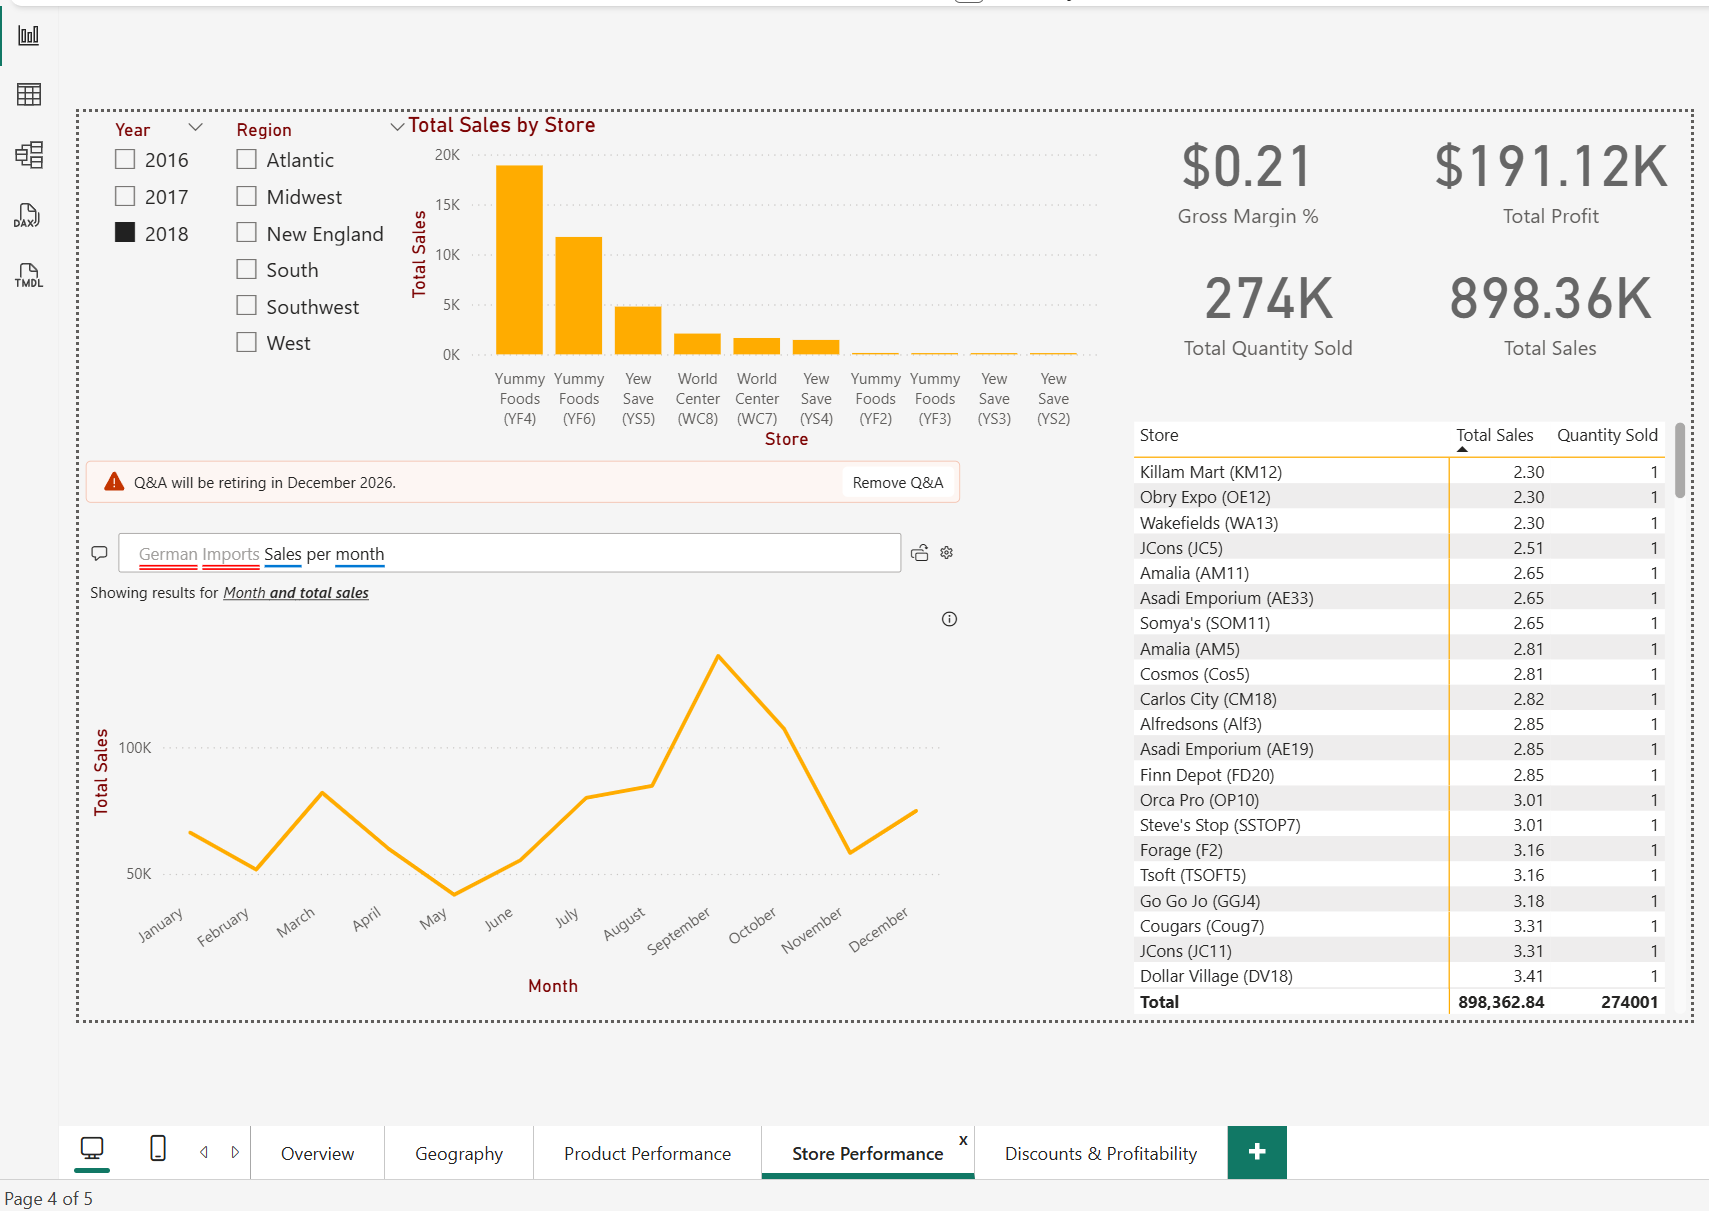

Layout of this report page (visuals, bound fields, positions):
{"tool":"powerbi","page":{"name":"Store Performance","canvas":[1280,720],"ordinal":3},"visuals":[{"type":"slicer","fields":{"Values":["Transactions.Date.Variation.Date Hierarchy.Year"]},"box":[16,0,96,208],"z":0},{"type":"slicer","fields":{"Values":["Region.Region"]},"box":[112,0,160,240],"z":1000},{"type":"card","fields":{"Values":["Transactions.Total Sales"]},"box":[1072,96,192,112],"z":2000},{"type":"card","fields":{"Values":["Transactions.Total Profit"]},"box":[1056,0,224,96],"z":3000},{"type":"card","fields":{"Values":["Transactions.Total Quantity Sold"]},"box":[848,96,192,112],"z":4000},{"type":"card","fields":{"Values":["Transactions.Gross Margin %"]},"box":[848,0,160,96],"z":5000},{"type":"clusteredColumnChart","fields":{"Category":["Transactions.Store"],"Y":["Transactions.Total Sales"]},"box":[256,0,560,272],"z":6000},{"type":"pivotTable","fields":{"Rows":["Transactions.Store"],"Values":["Transactions.Total Sales","Sum(Transactions.Quantity Sold)"]},"box":[832,240,448,480],"z":8000},{"type":"qnaVisual","box":[0,272,704,448],"z":9002}]}

Visuals, with their boxes on the page's 1280x720 design canvas (x1, y1, x2, y2). These are canvas units, not pixel positions in the 1709x1211 screenshot, which may show the page scaled, cropped or inside an application window:
slicer - Transactions.Date.Variation.Date Hierarchy.Year: {"left": 16, "top": 0, "right": 112, "bottom": 208}
slicer - Region.Region: {"left": 112, "top": 0, "right": 272, "bottom": 240}
card - Transactions.Total Sales: {"left": 1072, "top": 96, "right": 1264, "bottom": 208}
card - Transactions.Total Profit: {"left": 1056, "top": 0, "right": 1280, "bottom": 96}
card - Transactions.Total Quantity Sold: {"left": 848, "top": 96, "right": 1040, "bottom": 208}
card - Transactions.Gross Margin %: {"left": 848, "top": 0, "right": 1008, "bottom": 96}
clusteredColumnChart - Transactions.Store x Transactions.Total Sales: {"left": 256, "top": 0, "right": 816, "bottom": 272}
pivotTable - Transactions.Store x Transactions.Total Sales: {"left": 832, "top": 240, "right": 1280, "bottom": 720}
qnaVisual: {"left": 0, "top": 272, "right": 704, "bottom": 720}
